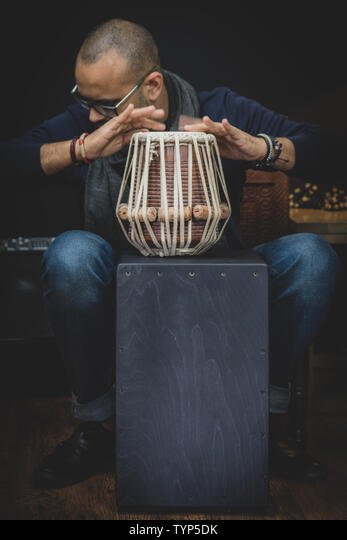tabla: (120, 131, 230, 253)
